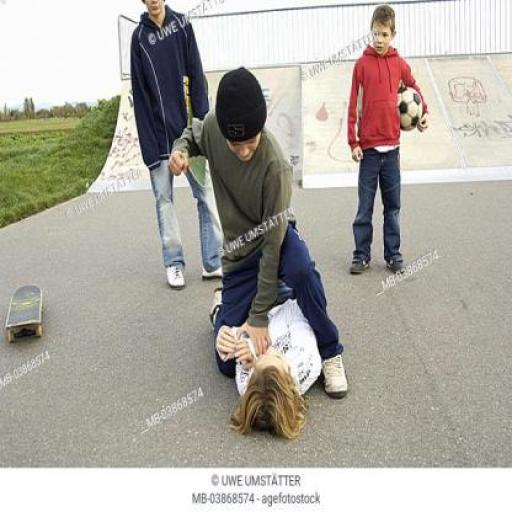Fighting: (159, 73, 351, 441)
